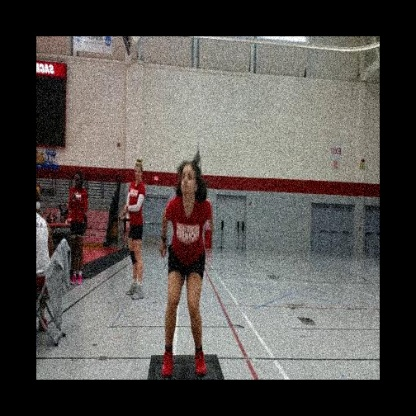lateral_flexion_right: (155, 151, 220, 380)
stance_width_normal: (156, 192, 215, 380)
